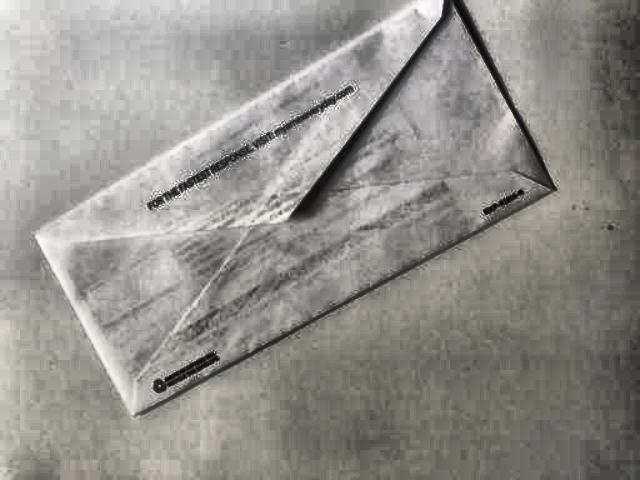Paper: (13, 0, 606, 462)
